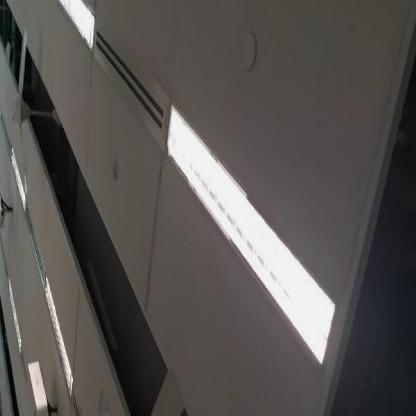light_on: (156, 92, 344, 384), (42, 263, 80, 398), (57, 0, 100, 67), (3, 142, 33, 215), (3, 271, 25, 357)
